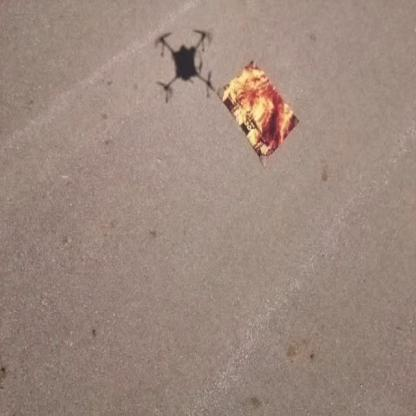fire-poster: (216, 58, 300, 166)
